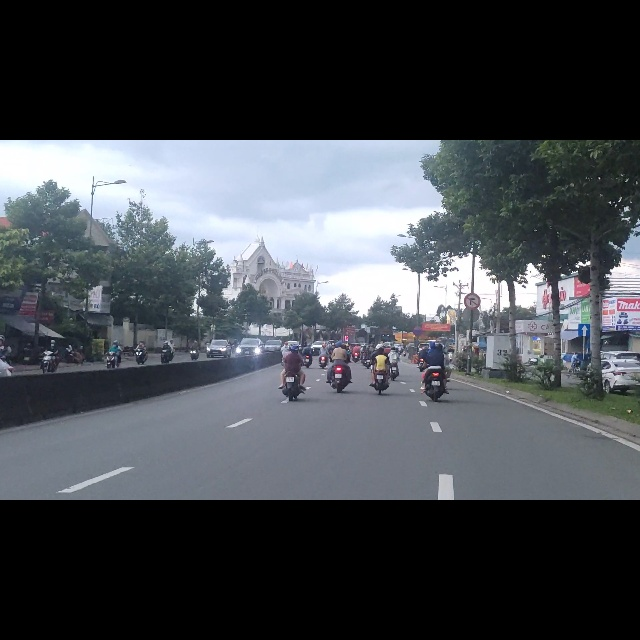bien_cam: (464, 273, 480, 301)
